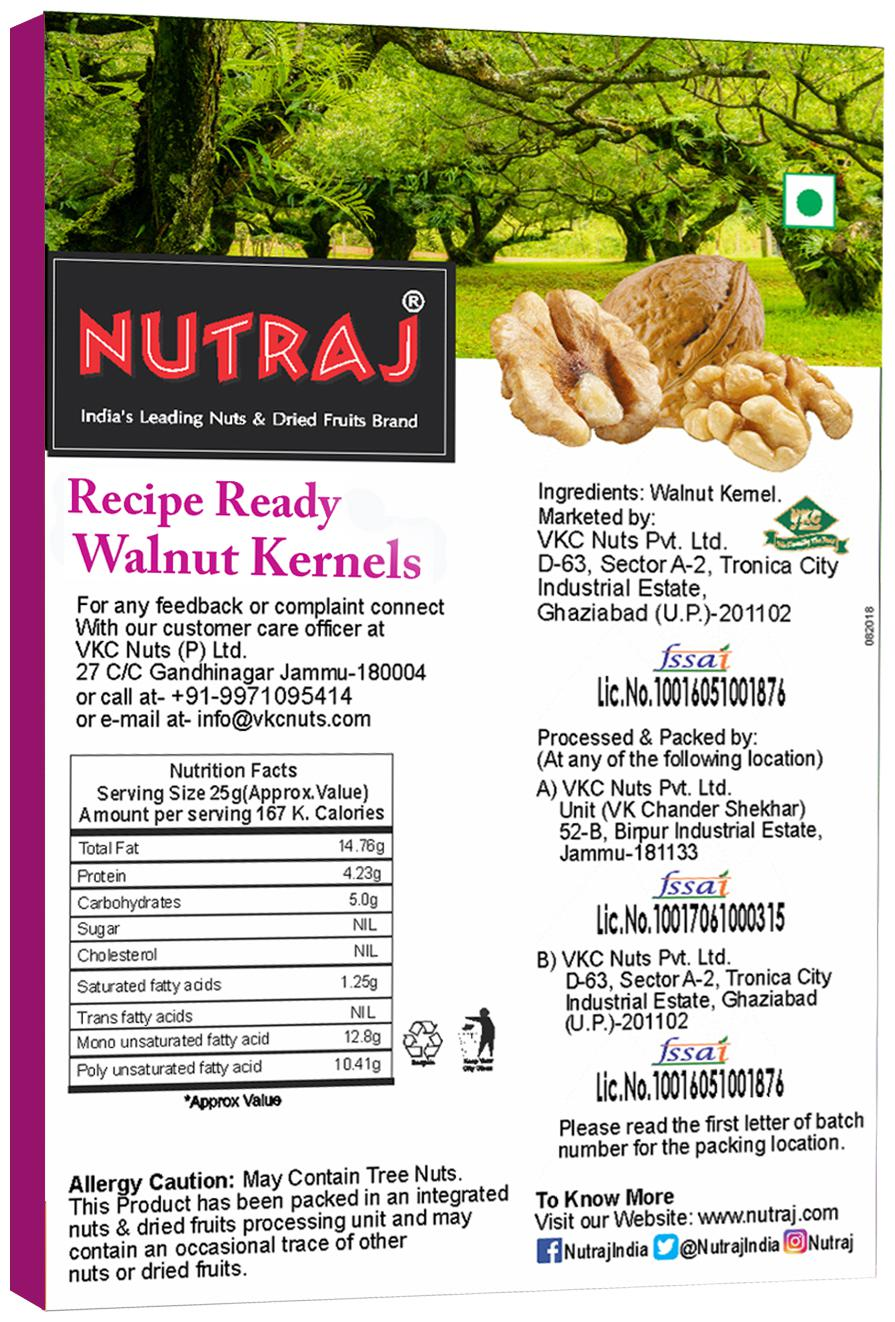fssai: (651, 641, 734, 672), (651, 869, 730, 900), (652, 1036, 730, 1066)
